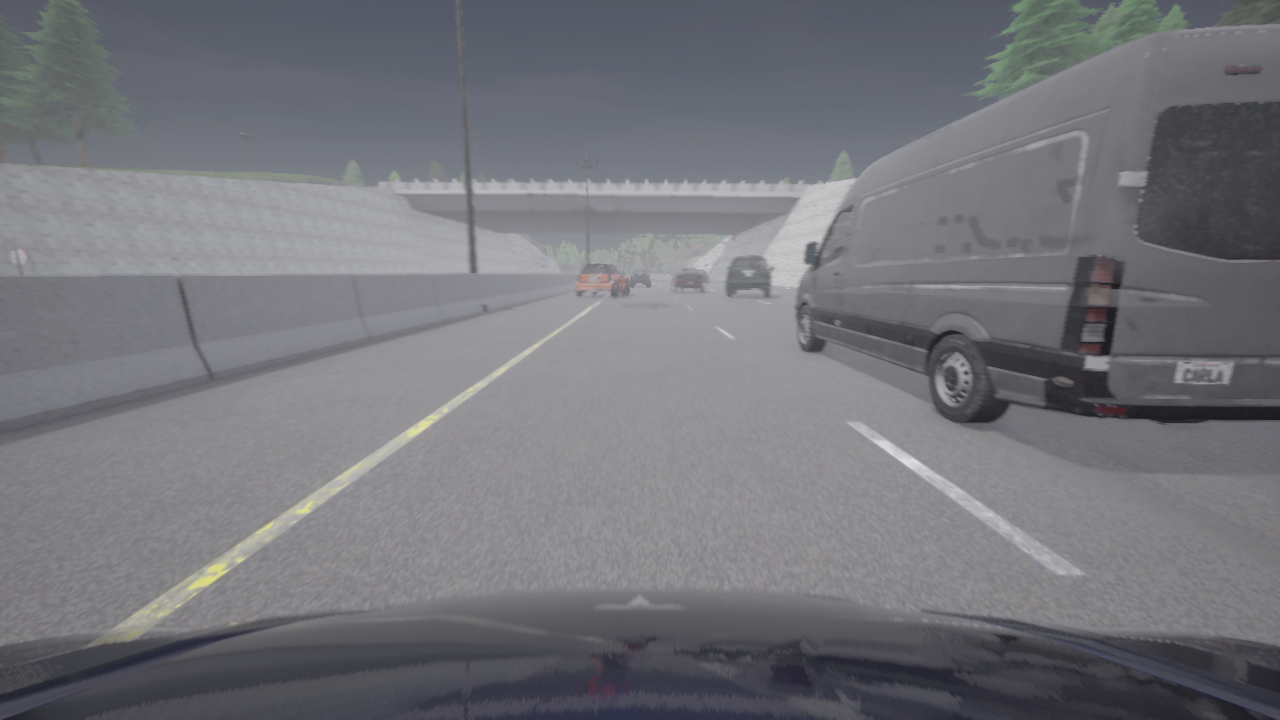cyclist: (795, 25, 1279, 423), (0, 588, 1279, 719), (726, 256, 773, 297), (575, 264, 628, 296), (670, 268, 703, 292), (630, 269, 649, 286)
